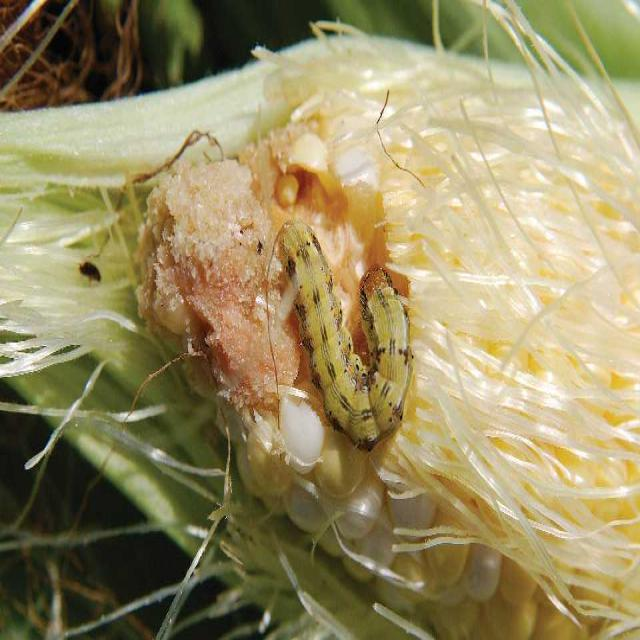Corn-earworm: (278, 215, 409, 436)
